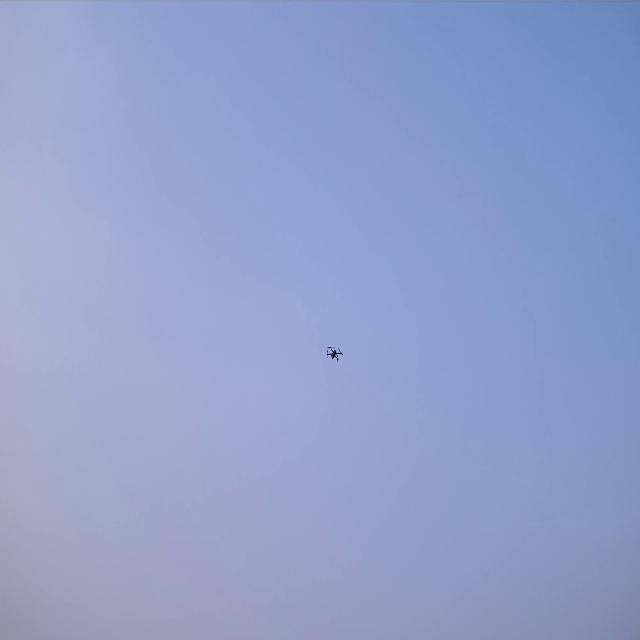UAV: (325, 344, 344, 364)
